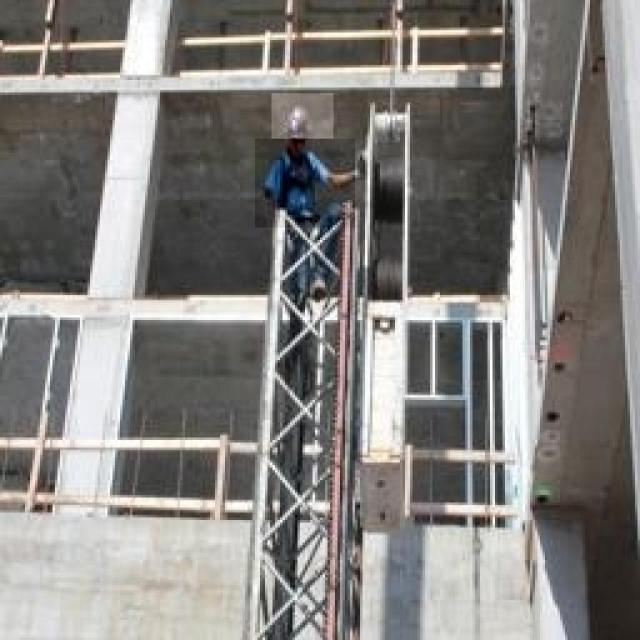Helmet: (255, 138, 355, 228), (272, 93, 334, 155)
